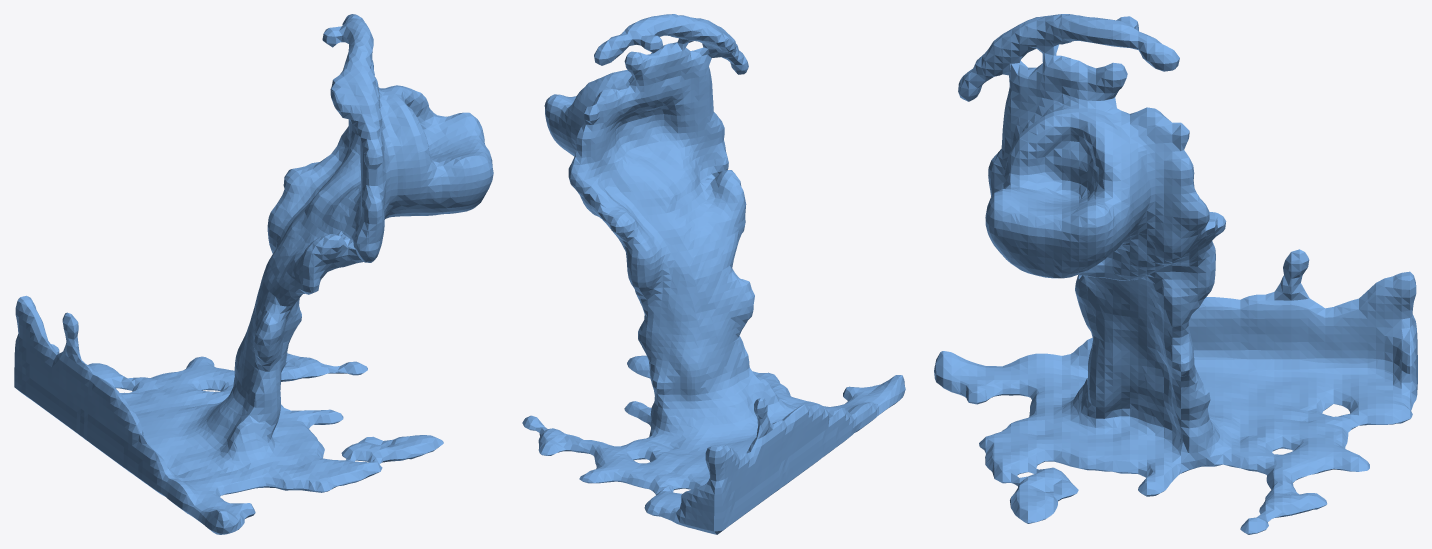
File: water_0040.glb
3 renders of one model, left to right at view 1: azimuth 30°, elevation 25°; view 2: azimuth 150°, elevation 25°; view 3: azimuth 270°, elevation 25°, orthographic. The views are drawn at different scales.
Visible parts, largest first — view 1: Water_0040; view 2: Water_0040; view 3: Water_0040.
Part boxes in pixels (<box>): Water_0040: <box>14,14,493,534</box>; Water_0040: <box>522,14,905,534</box>; Water_0040: <box>934,14,1417,534</box>.
Size of the model in its own units: 3.04 by 3.65 by 3.33.
